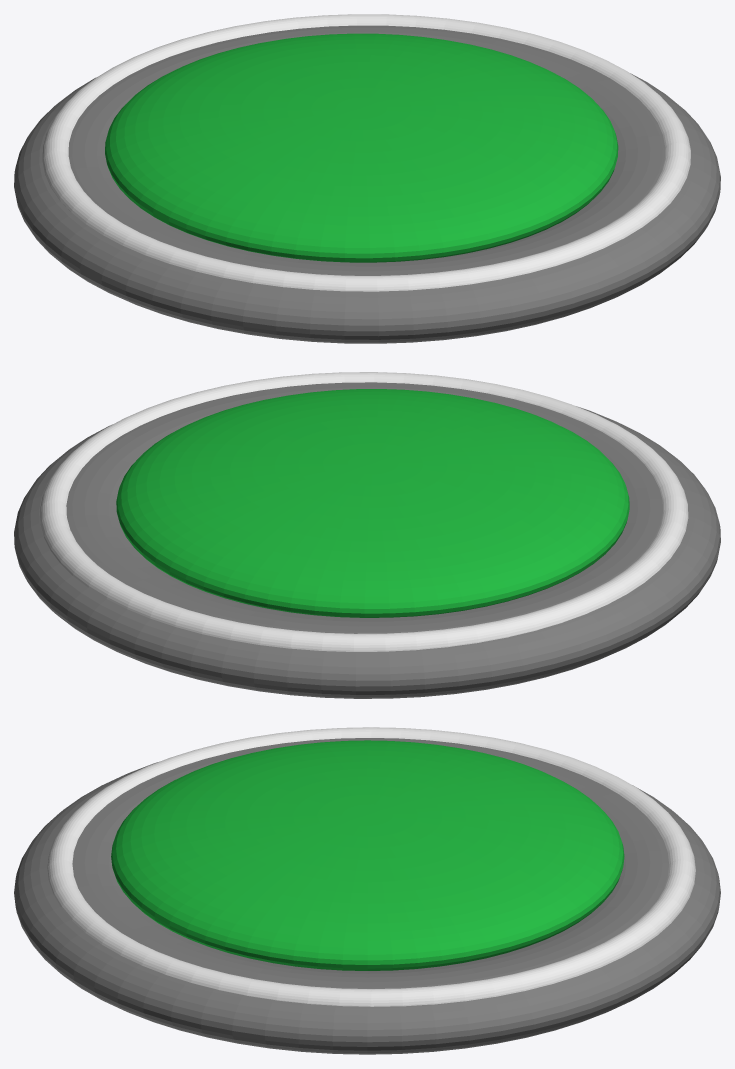
File: Charger.fbx
3 renders of one model, top to bottom at view 1: azimuth 30°, elevation 25°; view 2: azimuth 150°, elevation 25°; view 3: azimuth 270°, elevation 25°, orthographic.
Visible parts, largest first — view 1: Sphere, Torus, Torus.002; view 2: Sphere, Torus, Torus.002; view 3: Sphere, Torus, Torus.002.
Boxes of the visible parts, x1,y1,x2,y2 form: Sphere: (105,33,618,262); Torus: (14,25,720,343); Torus.002: (42,14,690,291); Sphere: (116,389,629,617); Torus: (14,382,720,698); Torus.002: (39,372,688,651); Sphere: (111,740,624,970); Torus: (14,738,720,1054); Torus.002: (47,727,695,1006).
Size of the model in its own units: 250 by 41.07 by 250.
